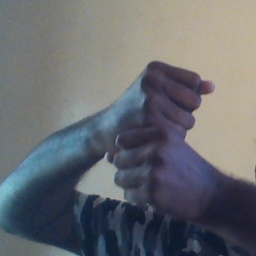G: (107, 57, 217, 216)
